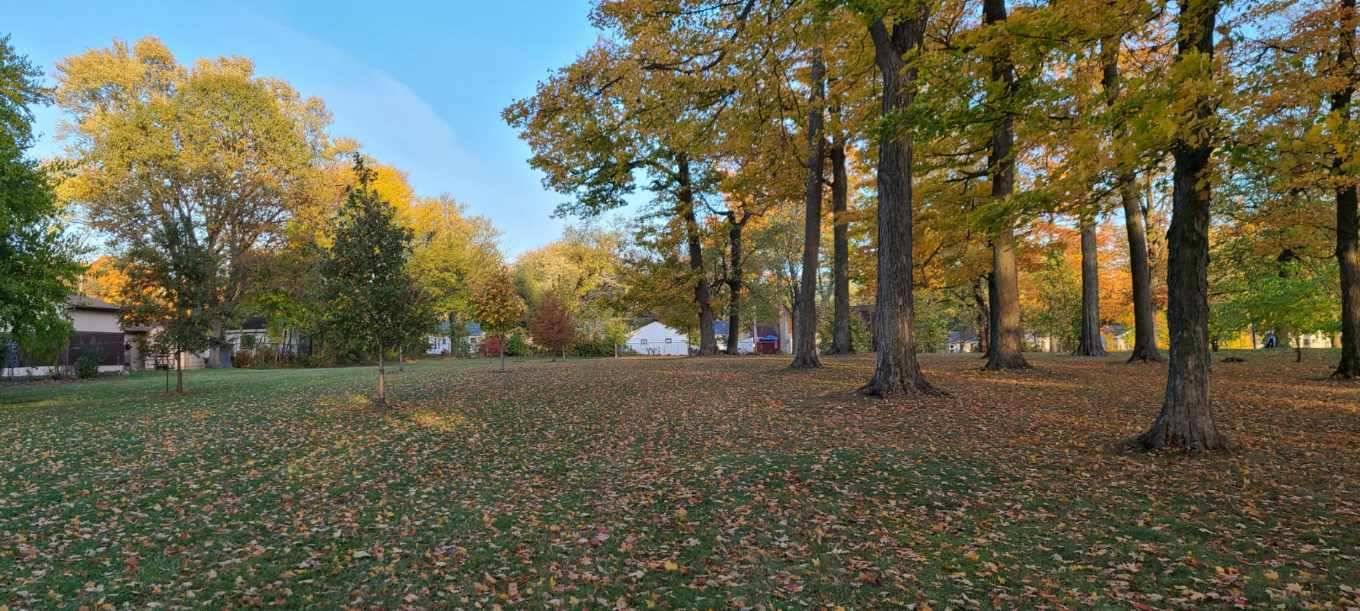tree: (1140, 1, 1227, 457), (863, 5, 937, 401), (327, 165, 428, 411), (659, 7, 724, 357), (1103, 2, 1165, 365), (789, 6, 828, 371), (987, 1, 1025, 371), (1333, 1, 1360, 381), (1075, 3, 1103, 355), (829, 41, 855, 355), (151, 245, 204, 393), (723, 107, 740, 357), (484, 273, 519, 369)
